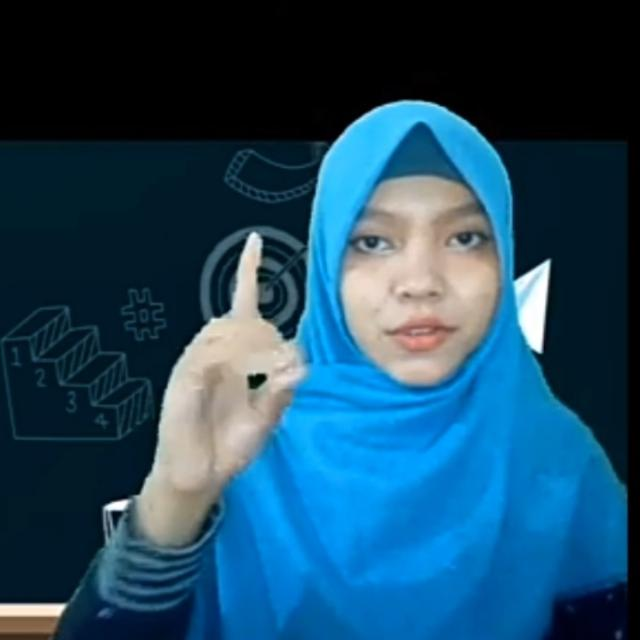D: (161, 233, 305, 481)
